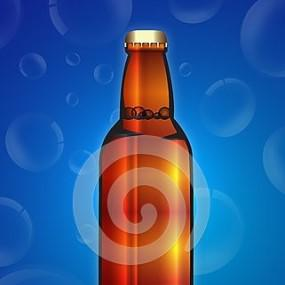beer: (94, 29, 194, 285)
